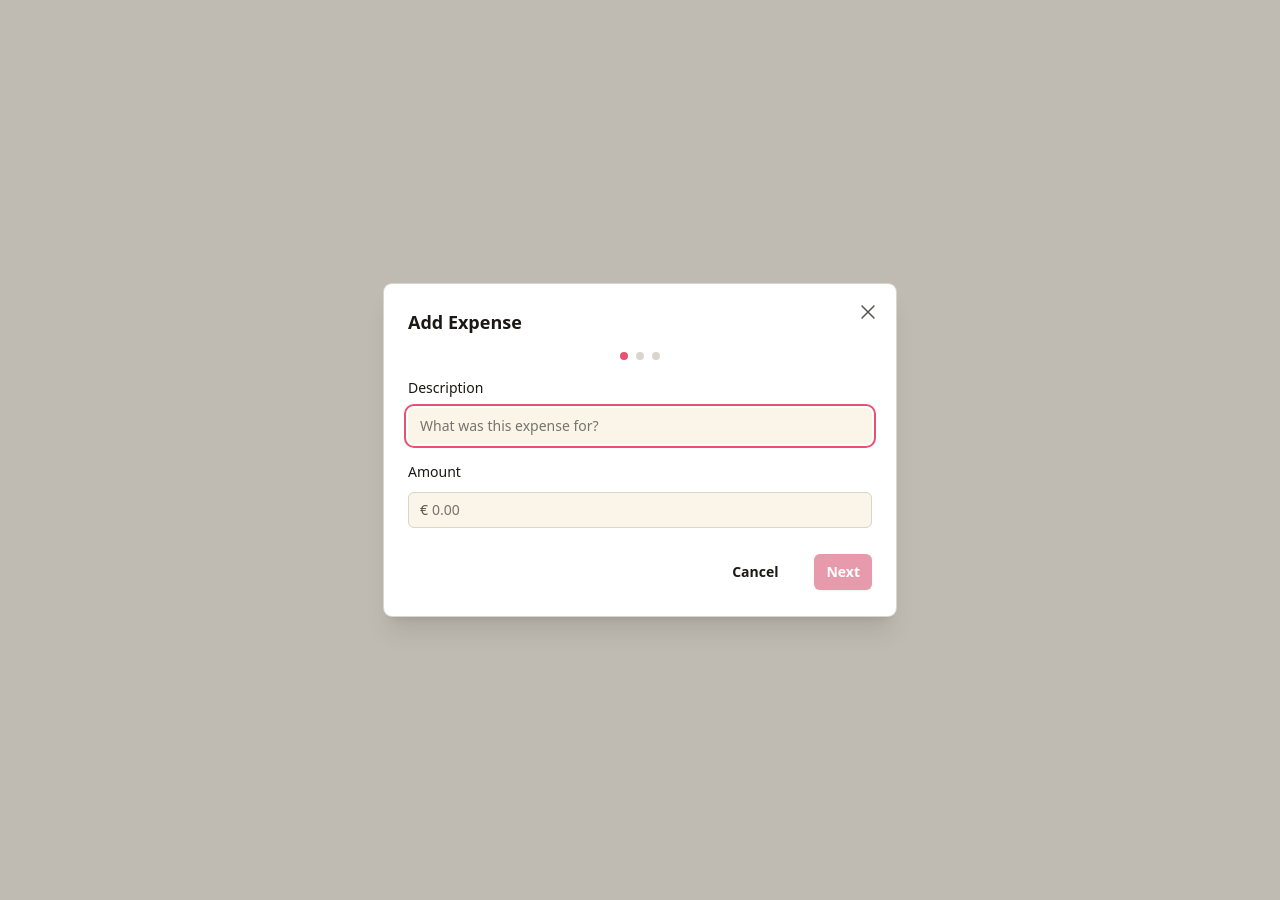
Test: AddExpenseModal wizard › navigates to step 2 when Next is clicked with valid inputs
Type "Dinner" into the field with test id "expense-description-input" at (640,426), box [408,408,872,444]
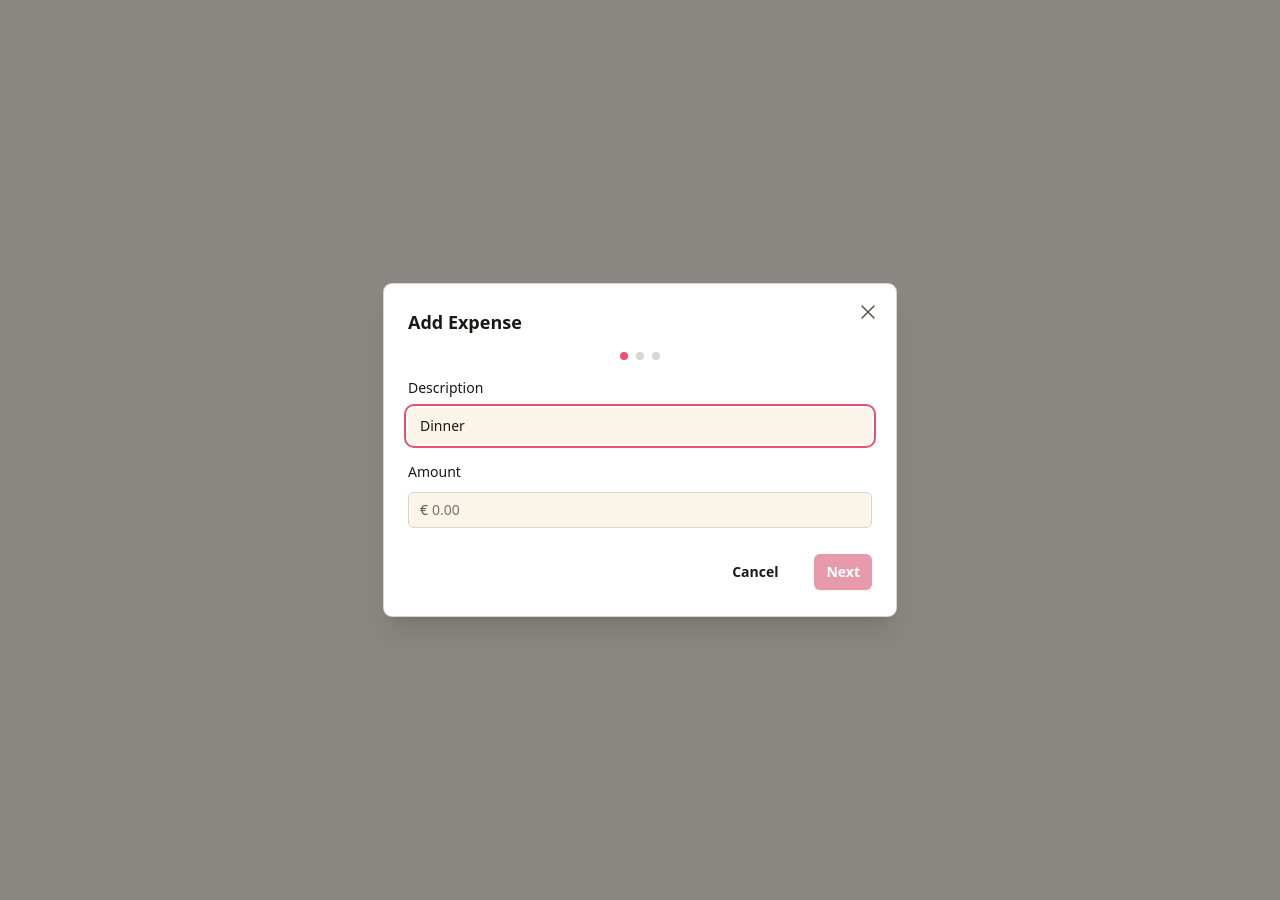
Type "42.50" into the field with test id "expense-amount-input" at (650,510), box [428,492,872,528]
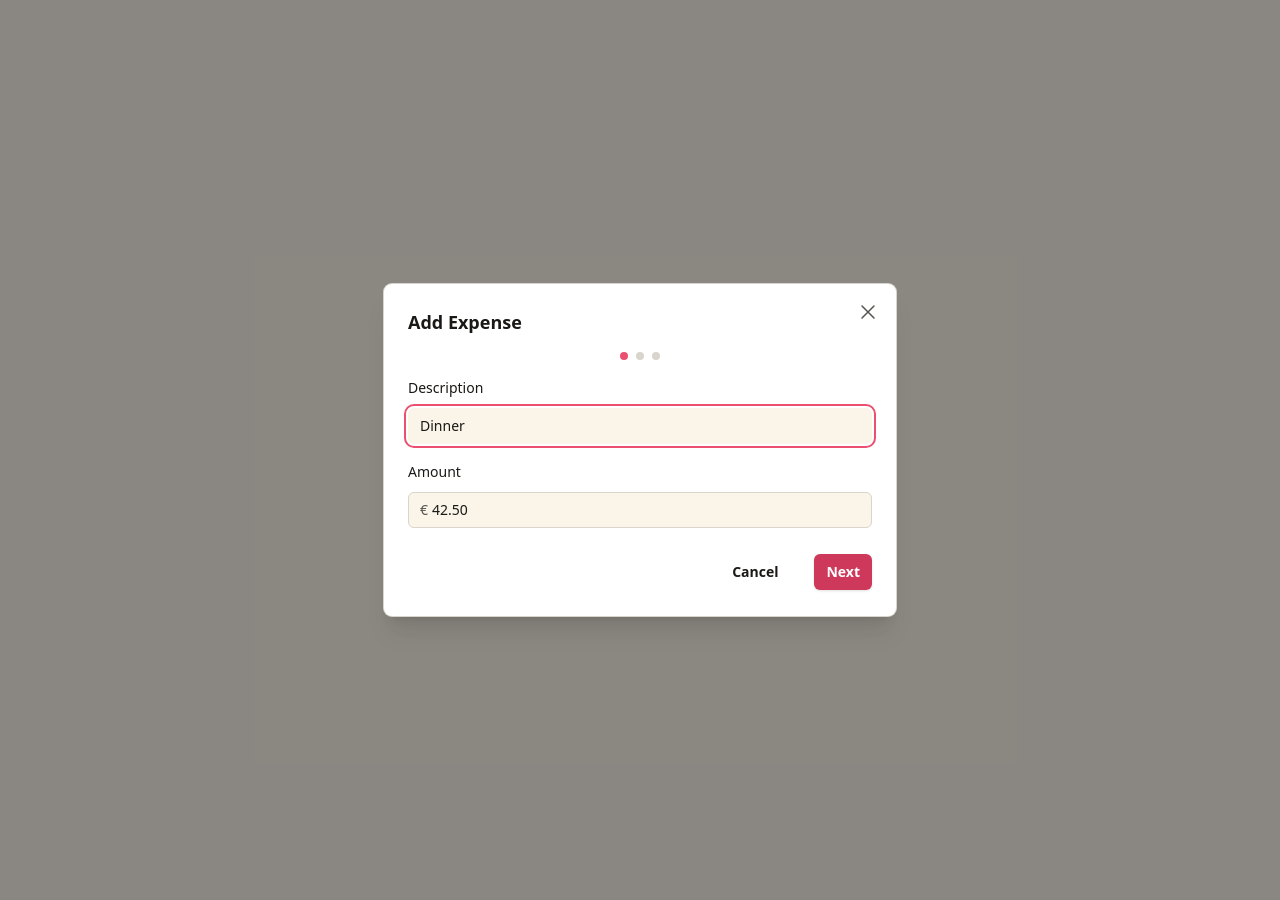
Submit the form, box [408,352,872,592]
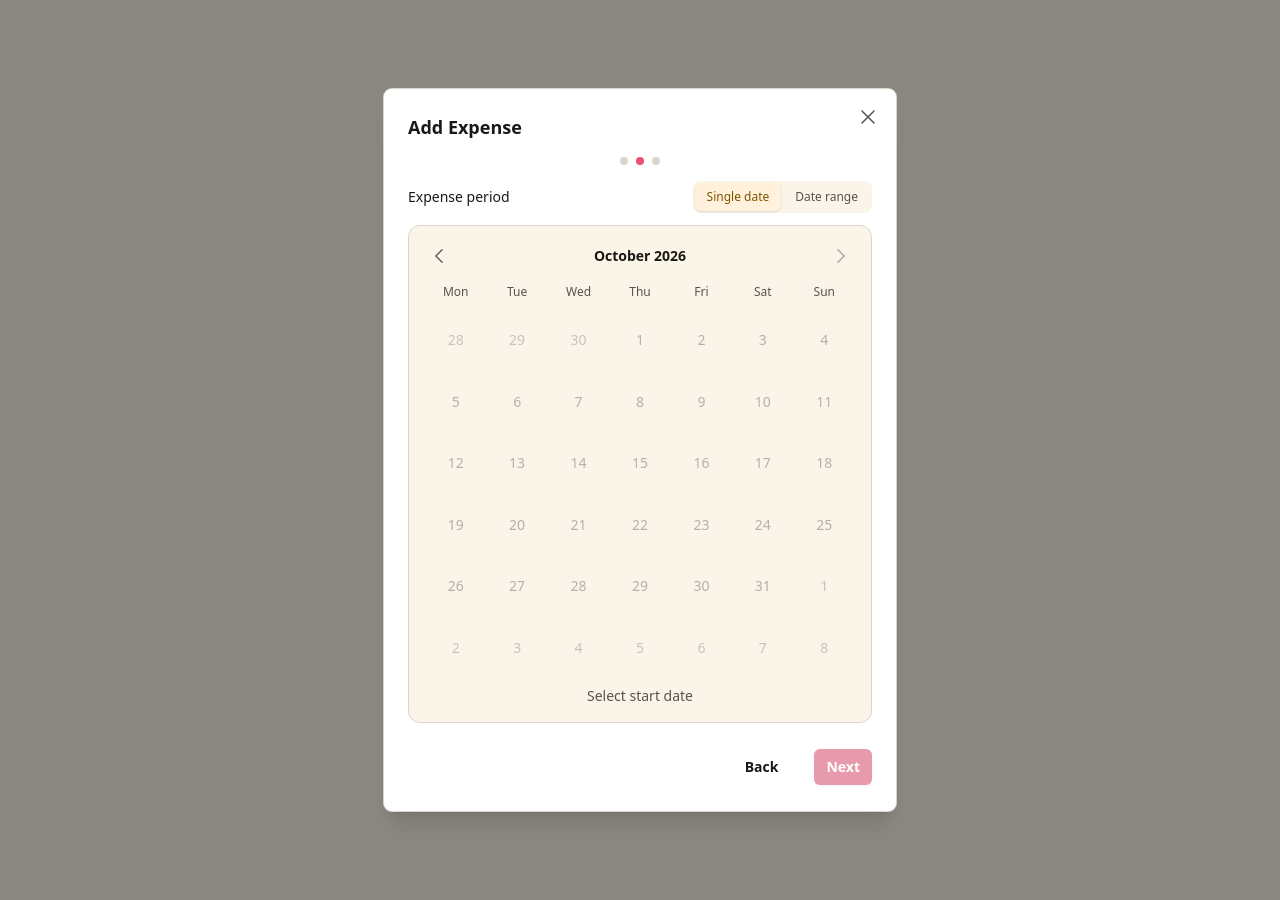
Check: the button with test id "toggle-date-mode" is shown, box [693,181,872,213]
